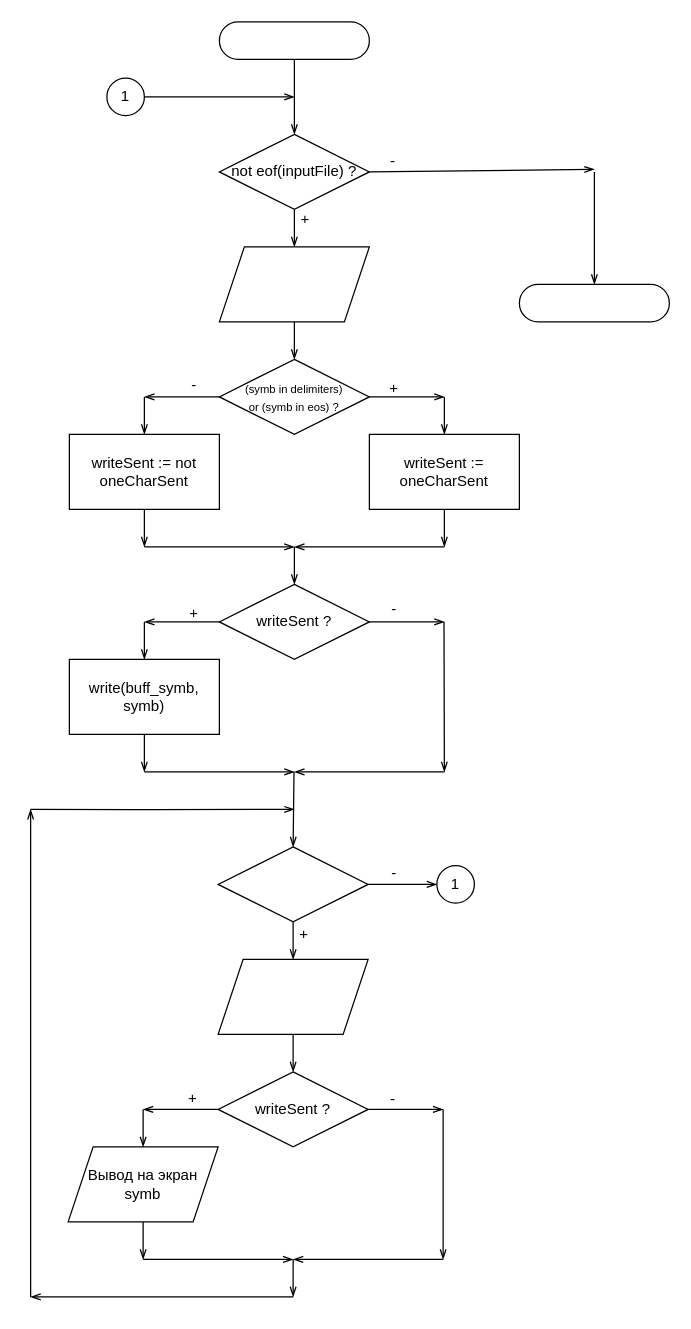
Some shapes in this 691 by 1329 pixel diagram are drawn without their labels. Here are the shapes that lost their labels. From the top down, the box of each, then its label:
(218, 21, 369, 59): writeSent(inputFile,oneCharSent) Начало
(218, 246, 369, 322): Ввод из файла buff_symb, symb
(518, 283, 669, 322): writeSent Конец
(217, 846, 368, 922): not ((symb in eos) or eof(inputFile)) ?
(217, 958, 368, 1034): Ввод из файла symb
